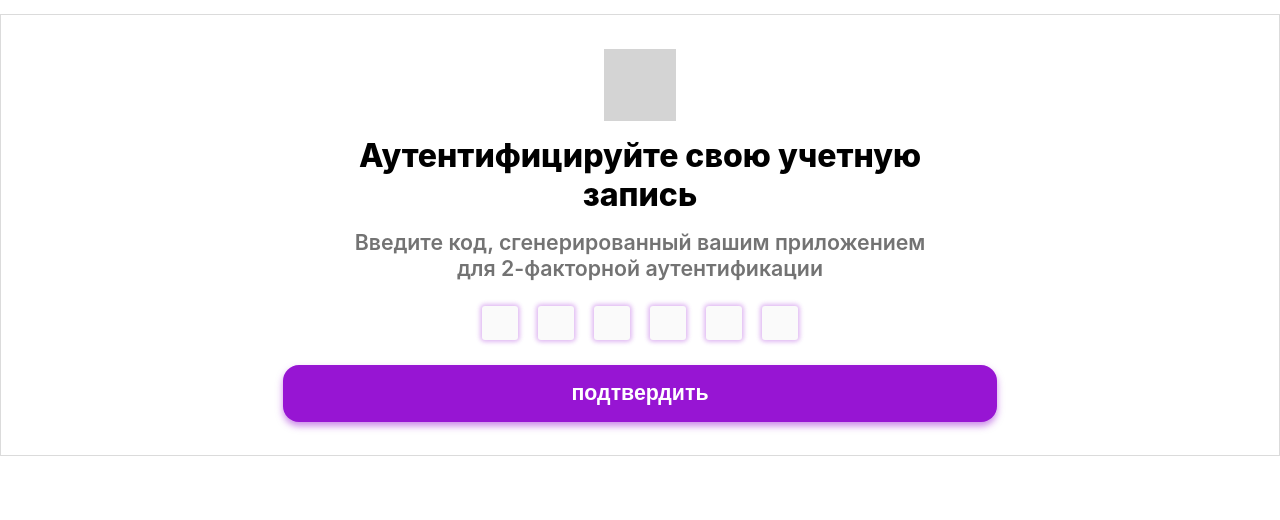
CardTwoFactor › reports when there's no code
This screenshot has width=1280, height=520.
Step 1. Click the button "подтвердить" → (640, 393), box [282,365,998,422]
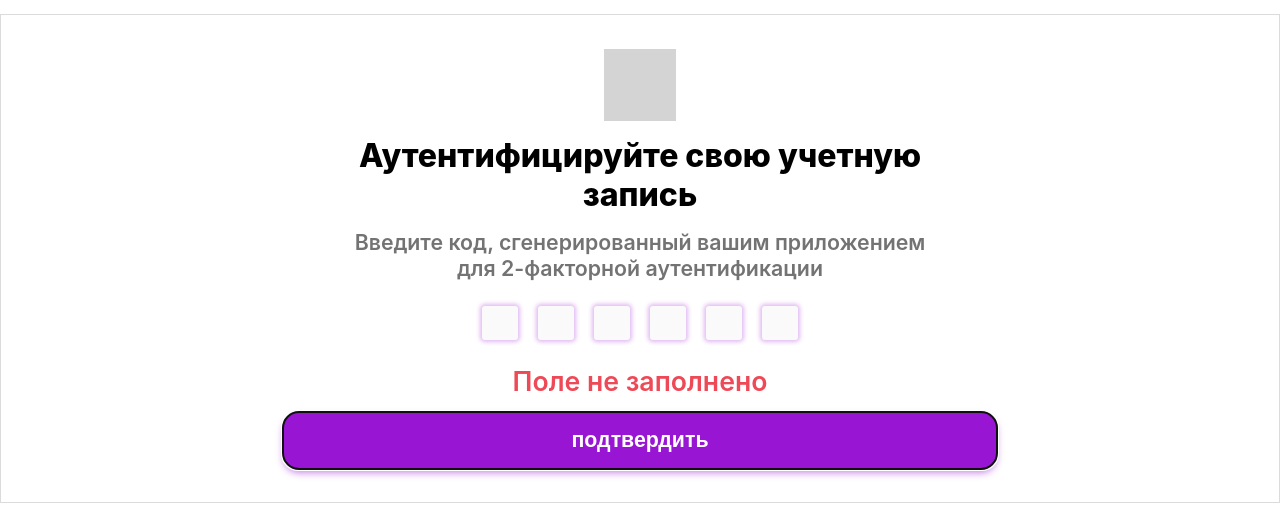
Expected: the text "Поле не заполнено" is shown, [513,365,767,397]
